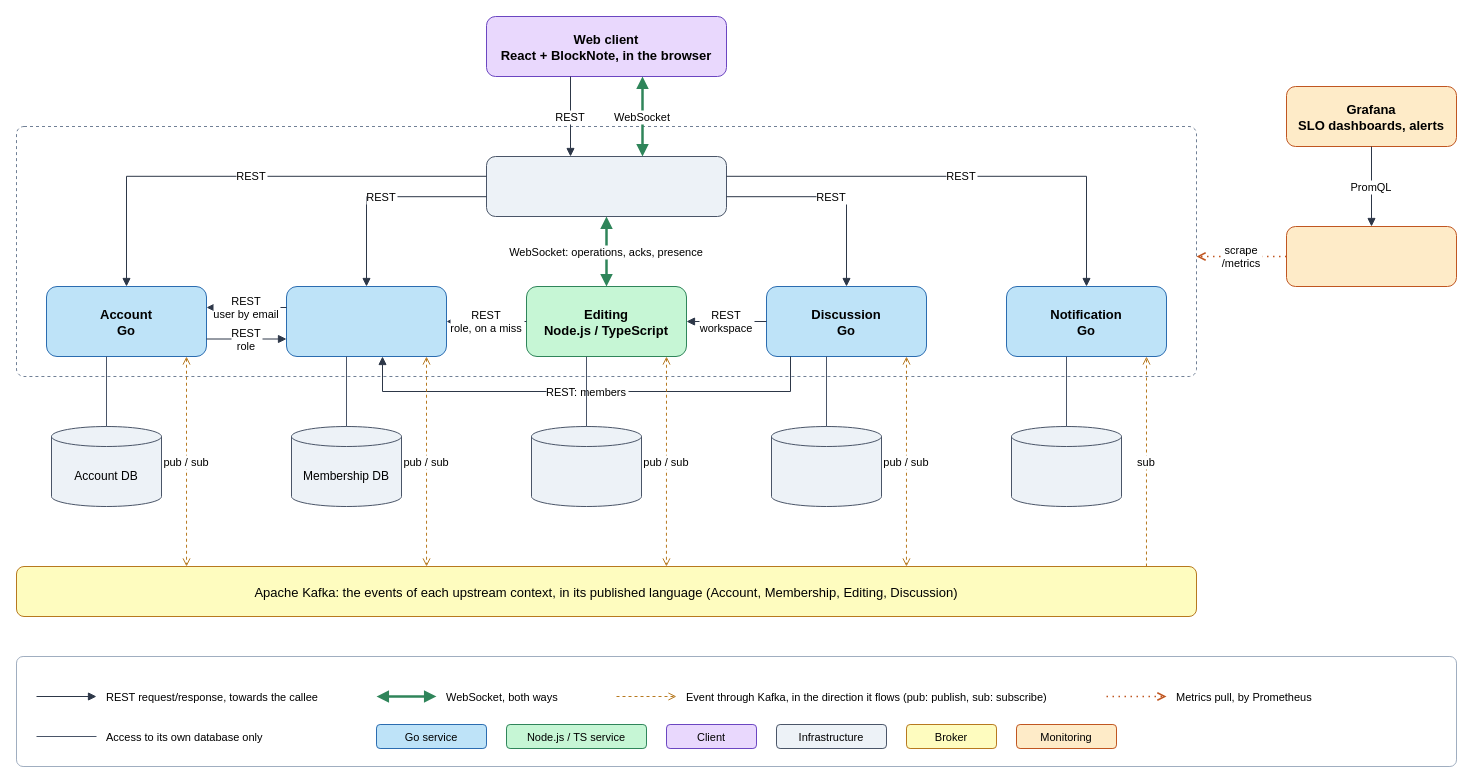
The diagram is 1473 pixels wide and 783 high, and some of its shapes have lost their labels. The shapes that lost their labels are listed below. From the top down, each one's box as (x1, y1, x2, y2) in pixels, then its label:
(486, 156, 726, 216): API Gateway Go routing, authentication
(16, 126, 1196, 376): Gotion services: each one exposes /health and /metrics
(1286, 226, 1456, 286): Prometheus metrics store
(286, 286, 446, 356): Membership Go
(530, 426, 642, 506): Editing DB log + snapshots
(770, 426, 882, 506): Discussion DB
(1010, 426, 1122, 506): Notification DB
(16, 656, 1456, 766): Legend
